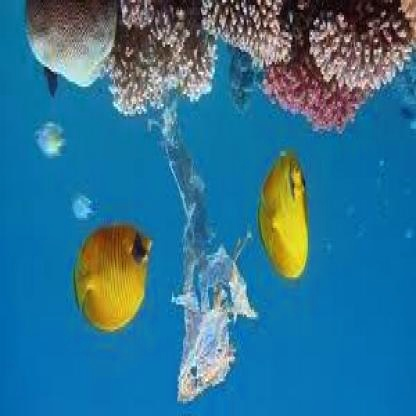pbag: (146, 109, 259, 409)
